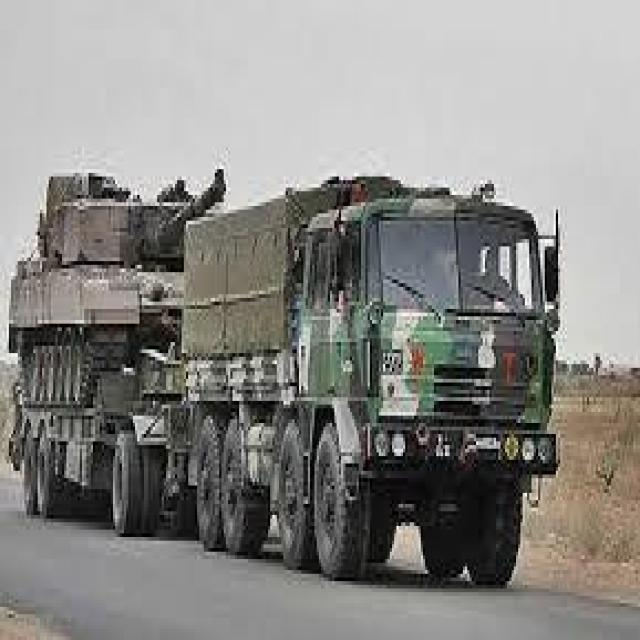Tanks: (12, 138, 176, 336)
